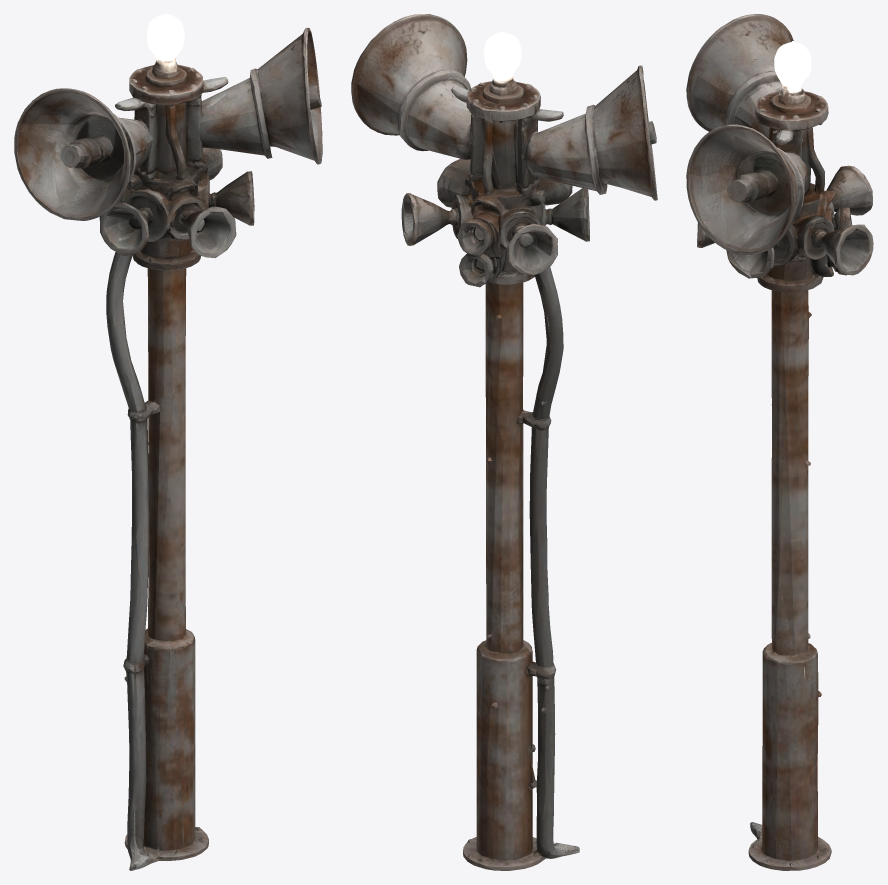
The model's file is sirene_alarme.glb.
The picture shows the model from 3 angles, left to right: view 1: azimuth 30°, elevation 25°; view 2: azimuth 150°, elevation 25°; view 3: azimuth 270°, elevation 25°; orthographic projection.
Visible parts, largest first — view 1: output_unwrapped; view 2: output_unwrapped; view 3: output_unwrapped.
Part boxes in pixels (<box>): output_unwrapped: <box>14,14,322,870</box>; output_unwrapped: <box>351,14,657,870</box>; output_unwrapped: <box>686,14,873,870</box>.
Bounding box in the file's own units: 0.7252 × 1.89 × 0.3947.
1 material, 1 textured.
